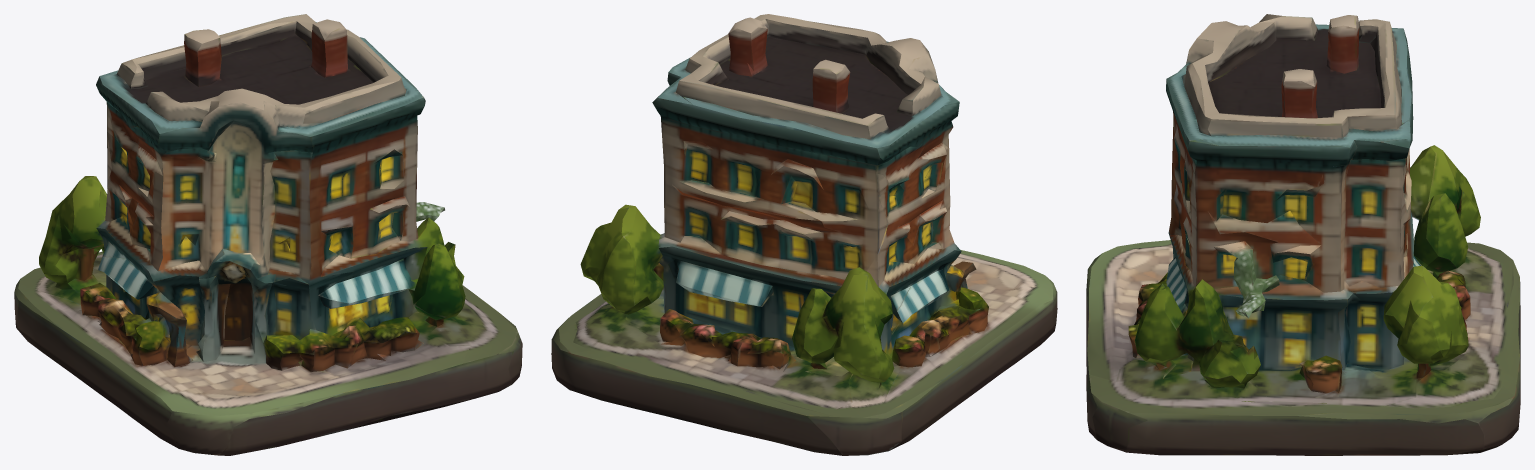
File: office-building.glb
The picture shows the model from 3 angles, left to right: view 1: azimuth 30°, elevation 25°; view 2: azimuth 150°, elevation 25°; view 3: azimuth 270°, elevation 25°; orthographic projection. The views are drawn at different scales.
Visible parts, largest first — view 1: geometry_0; view 2: geometry_0; view 3: geometry_0.
Part boxes in pixels (<box>): geometry_0: <box>14,14,522,455</box>; geometry_0: <box>551,14,1057,455</box>; geometry_0: <box>1086,14,1520,455</box>.
Bounding box in the file's own units: 0.9689 × 0.8311 × 1.
1 material, 1 textured.
